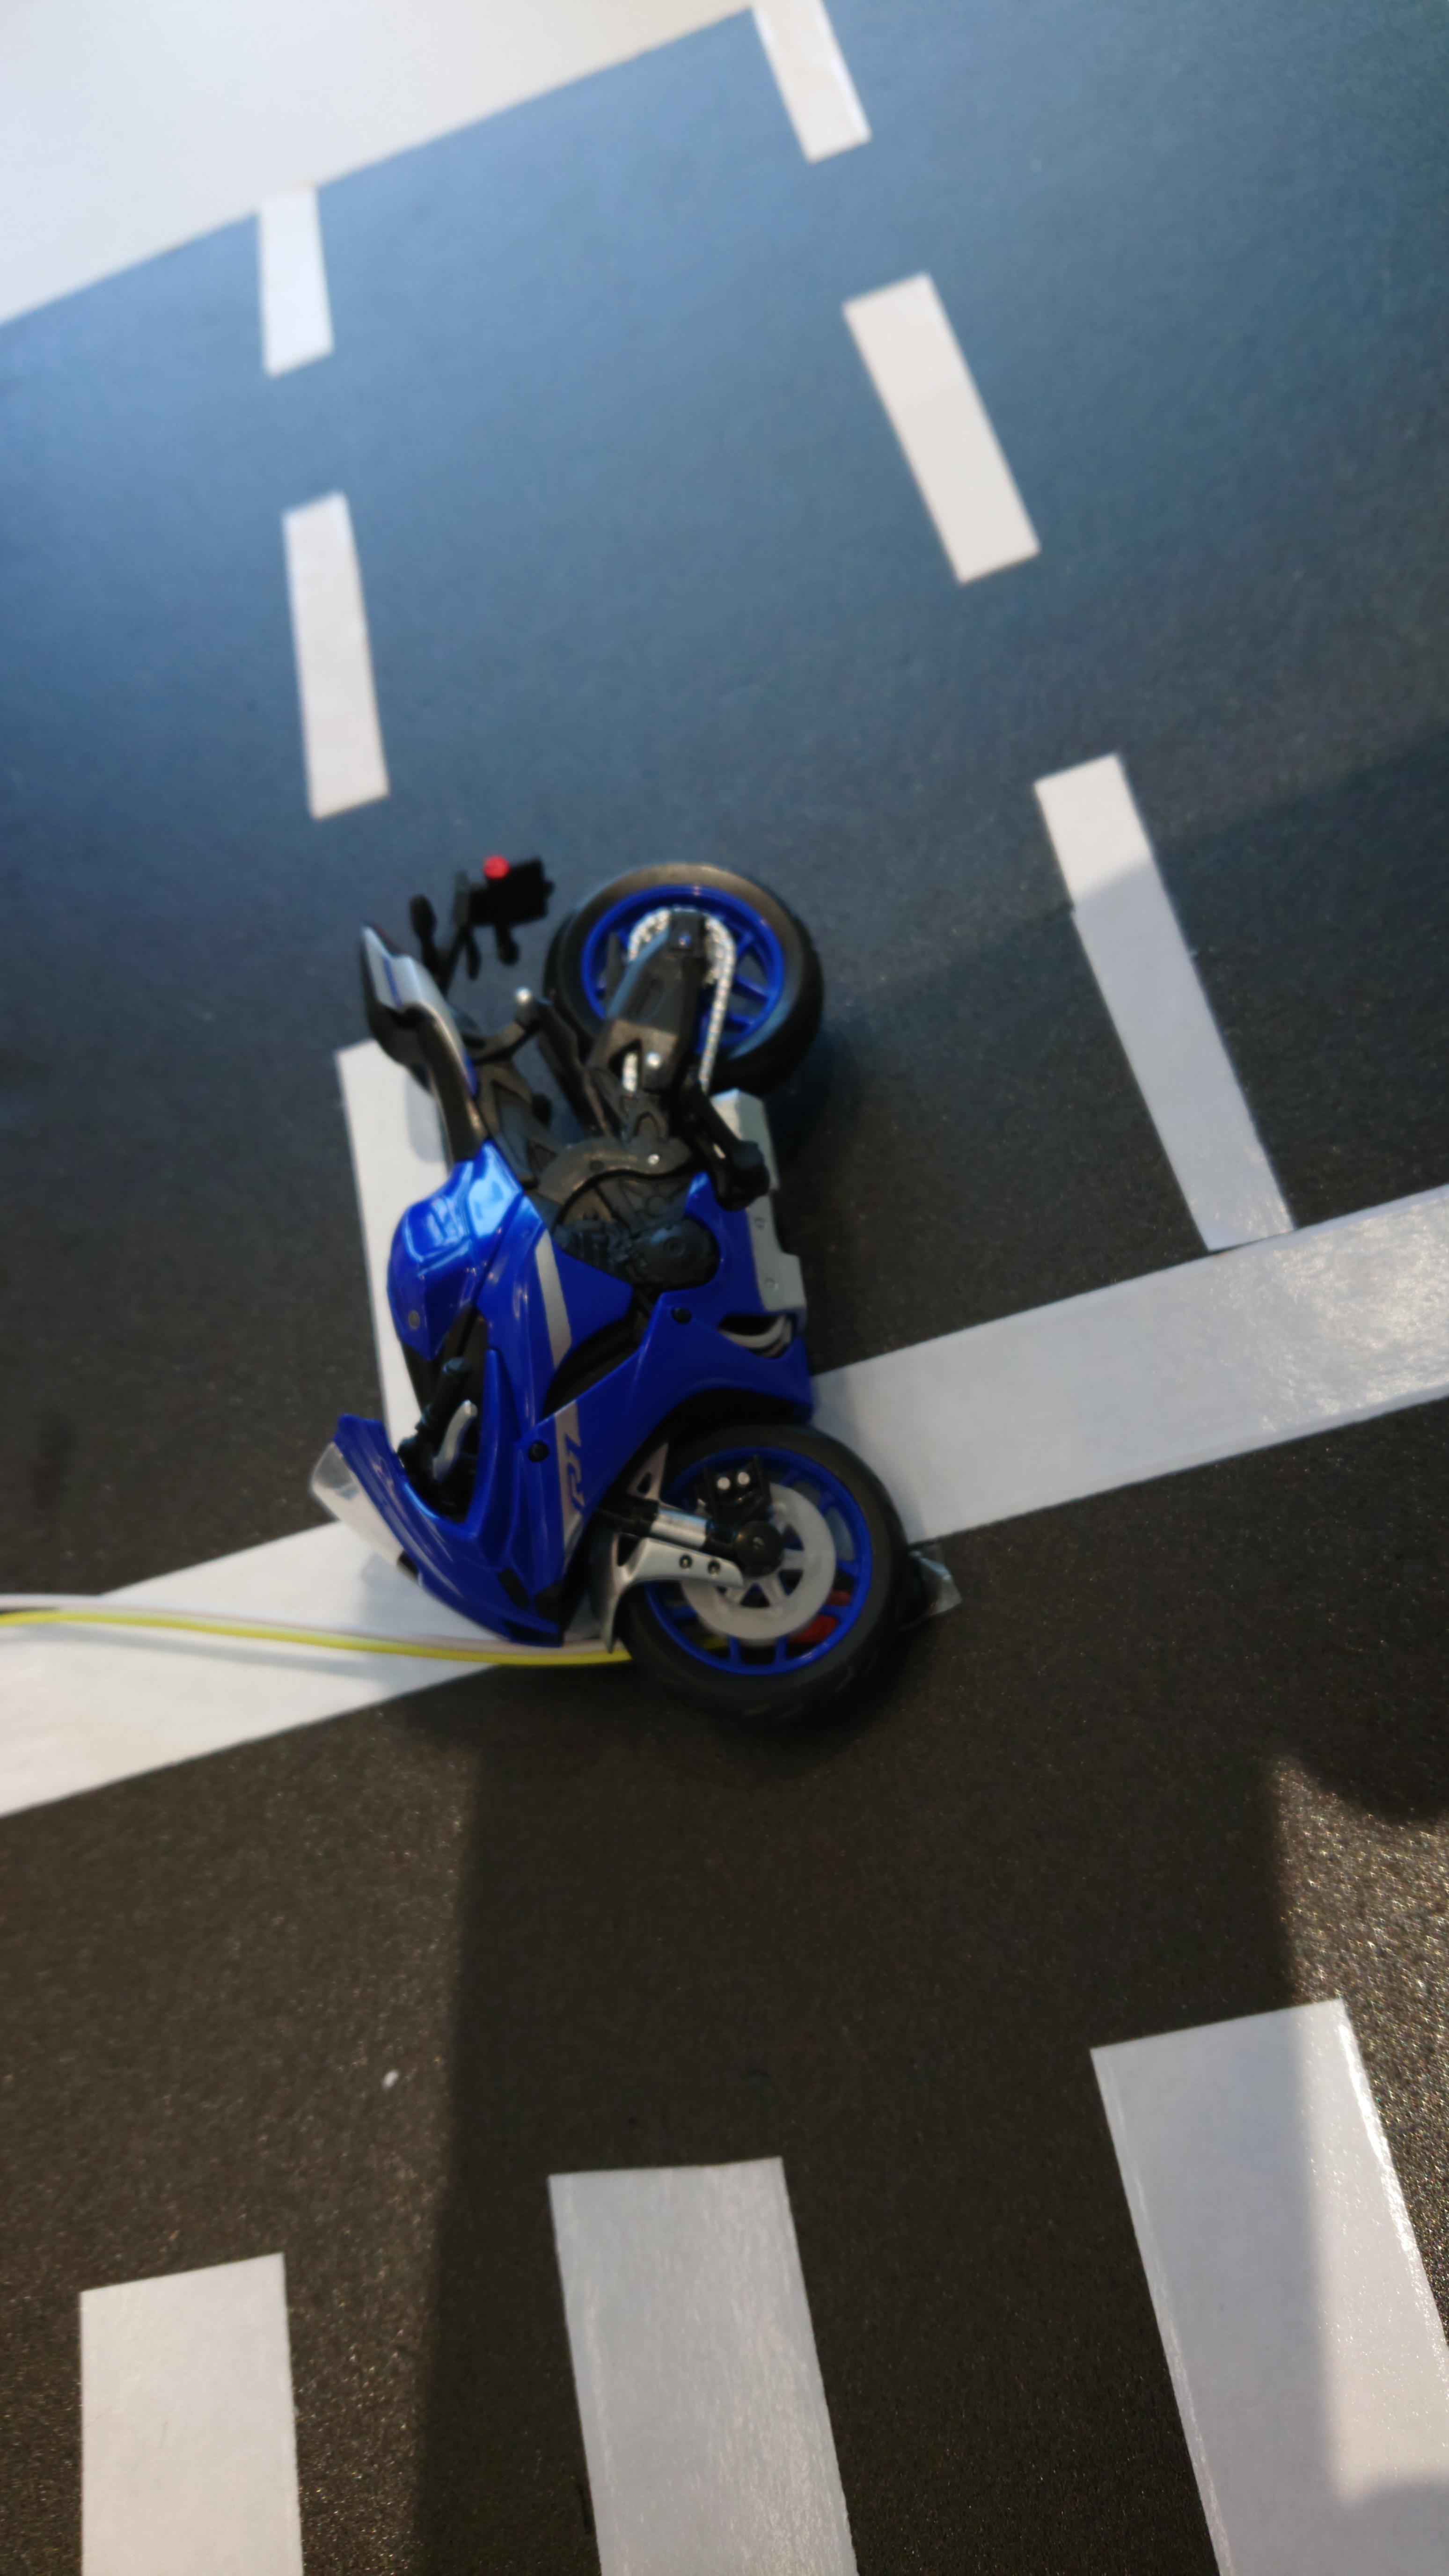Motorcycle: (304, 782, 913, 1727)
